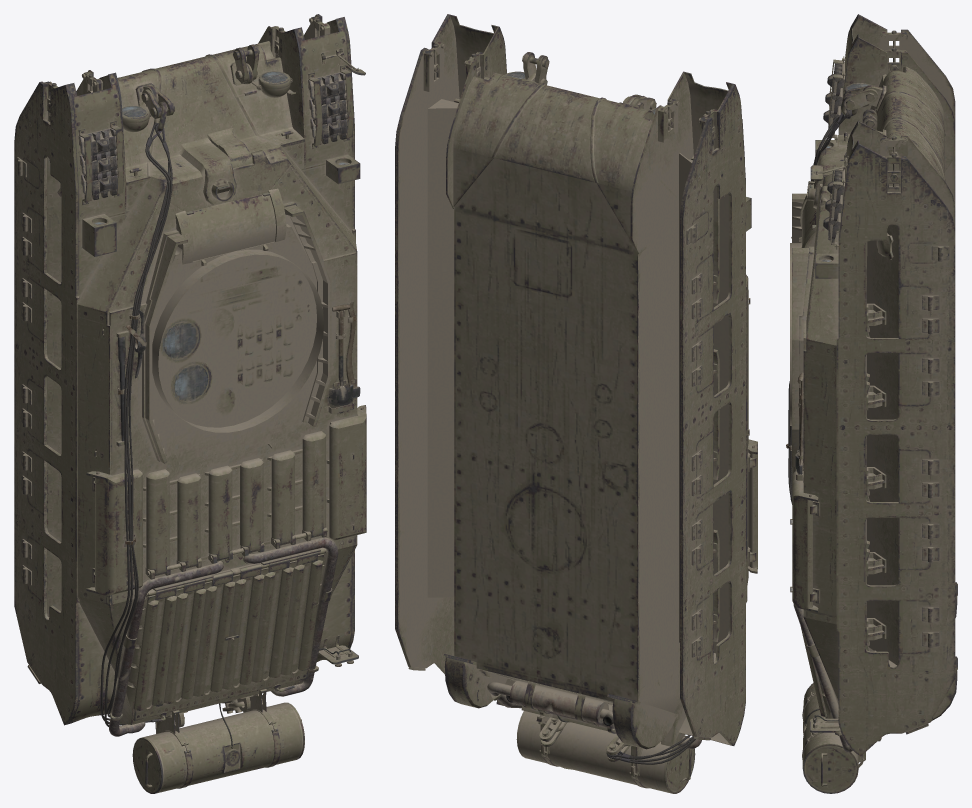
File: Hull.glb
The picture shows the model from 3 angles, left to right: view 1: azimuth 30°, elevation 25°; view 2: azimuth 150°, elevation 25°; view 3: azimuth 270°, elevation 25°; orthographic projection. The views are drawn at different scales.
Parts seen in each view (by area): view 1: set_0_group_0; view 2: set_0_group_0; view 3: set_0_group_0.
Part boxes in pixels (x1,y1,x2,y2): set_0_group_0: (14,14,366,793); set_0_group_0: (395,14,757,793); set_0_group_0: (786,14,957,793).
Size of the model in its own units: 2.59 by 6.15 by 1.4.
1 material, 1 textured.
